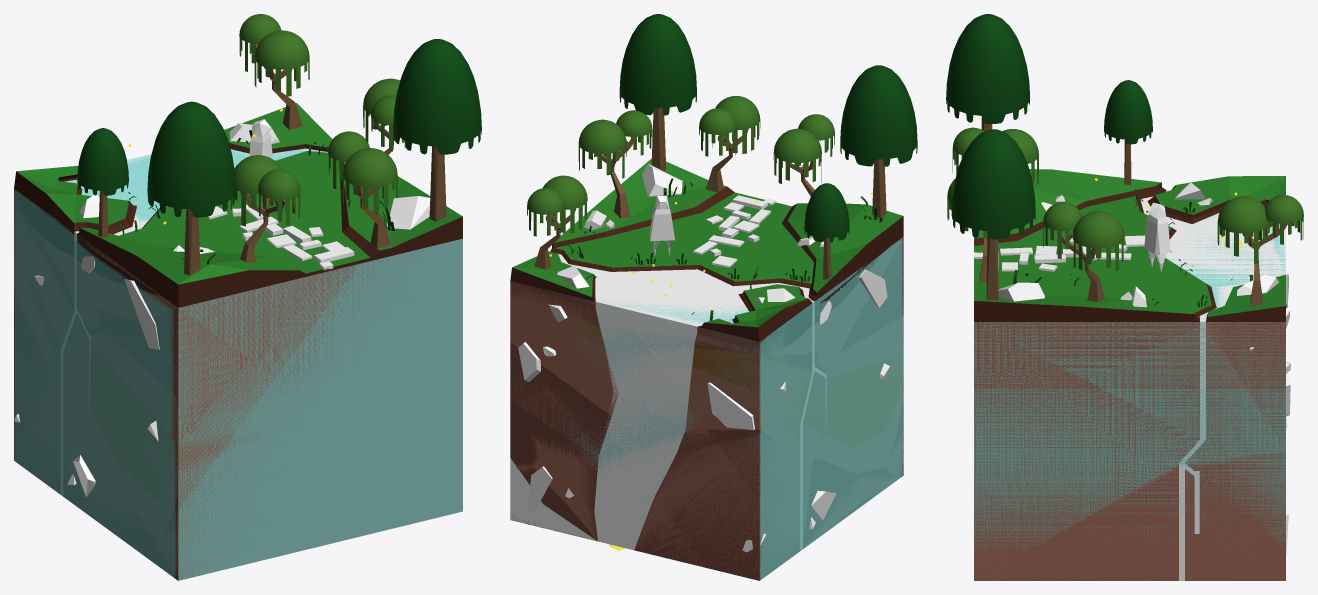
Rendered from treeblob.glb.
3 renders of one model, left to right at view 1: azimuth 30°, elevation 25°; view 2: azimuth 150°, elevation 25°; view 3: azimuth 270°, elevation 25°, orthographic. The views are drawn at different scales.
Parts seen in each view (by area): view 1: isla cubo separado, Cube.010, isla cubo a, tree 1, tree 1.001, tree 2.003, tree 2, tree 2.001, tree 1.002, agua separada, Cube, tree 2.002 (+3 smaller); view 2: isla cubo separado, isla cubo a, Cube.010, agua separada, tree 1, tree 1.001, tree 2.002, tree 2, tree 2.003, tree 2.001, tree 1.002, Cube (+6 smaller); view 3: isla cubo separado, Cube.010, isla cubo a, tree 1, tree 1.001, agua separada, tree 2.002, tree 2.003, tree 1.002, Cube, tree 2.001, Cube.014 (+2 smaller).
Boxes of the visible parts, left/top/right/bottom form: isla cubo separado: left=14, top=103, right=462, bottom=580; Cube.010: left=14, top=148, right=462, bottom=580; isla cubo a: left=14, top=151, right=456, bottom=580; tree 1: left=393, top=39, right=481, bottom=221; tree 1.001: left=147, top=101, right=235, bottom=275; tree 2.003: left=239, top=14, right=309, bottom=129; tree 2: left=328, top=131, right=397, bottom=248; tree 2.001: left=231, top=155, right=300, bottom=262; tree 1.002: left=77, top=128, right=128, bottom=237; agua separada: left=61, top=148, right=327, bottom=495; Cube: left=205, top=205, right=354, bottom=270; tree 2.002: left=362, top=78, right=405, bottom=190; isla cubo separado: left=510, top=159, right=903, bottom=580; isla cubo a: left=510, top=237, right=903, bottom=579; Cube.010: left=511, top=238, right=903, bottom=579; agua separada: left=557, top=253, right=826, bottom=550; tree 1: left=619, top=14, right=696, bottom=171; tree 1.001: left=840, top=65, right=917, bottom=218; tree 2.002: left=578, top=110, right=652, bottom=218; tree 2: left=699, top=96, right=760, bottom=192; tree 2.003: left=527, top=175, right=587, bottom=269; tree 2.001: left=773, top=114, right=834, bottom=196; tree 1.002: left=804, top=183, right=849, bottom=279; Cube: left=693, top=195, right=776, bottom=267; isla cubo separado: left=974, top=169, right=1285, bottom=580; Cube.010: left=974, top=190, right=1285, bottom=580; isla cubo a: left=1165, top=220, right=1285, bottom=579; tree 1: left=951, top=129, right=1035, bottom=300; tree 1.001: left=946, top=14, right=1030, bottom=131; agua separada: left=1140, top=190, right=1283, bottom=580; tree 2.002: left=1043, top=202, right=1124, bottom=301; tree 2.003: left=1217, top=195, right=1303, bottom=306; tree 1.002: left=1104, top=80, right=1152, bottom=185; Cube: left=974, top=235, right=1145, bottom=271; tree 2.001: left=952, top=127, right=1038, bottom=184; Cube.014: left=1144, top=202, right=1170, bottom=272.
Size of the model in its own units: 13.73 by 19.4 by 13.77.
